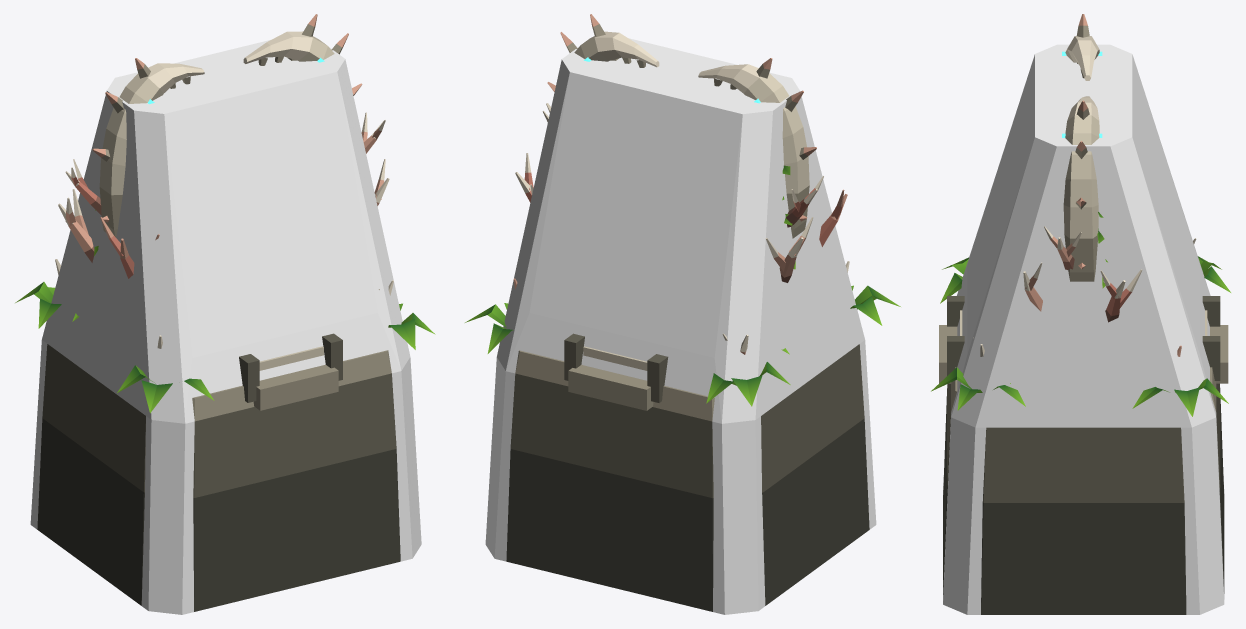
Rendered from ancient_coral_leviathan_altar.glb.
3 views of the same model, side by side, from view 1: azimuth 30°, elevation 25°; view 2: azimuth 150°, elevation 25°; view 3: azimuth 270°, elevation 25° (orthographic).
Visible parts, largest first — view 1: col_coralaltar_base, ancient_coral_leviathan_altar; view 2: col_coralaltar_base, ancient_coral_leviathan_altar; view 3: col_coralaltar_base, ancient_coral_leviathan_altar.
Part boxes in pixels (<box>): col_coralaltar_base: <box>30,40,421,614</box>; ancient_coral_leviathan_altar: <box>15,14,435,611</box>; col_coralaltar_base: <box>485,38,876,614</box>; ancient_coral_leviathan_altar: <box>465,14,900,611</box>; col_coralaltar_base: <box>943,44,1224,614</box>; ancient_coral_leviathan_altar: <box>931,14,1230,614</box>.
Bounding box in the file's own units: 5.34 × 8.03 × 4.46.
